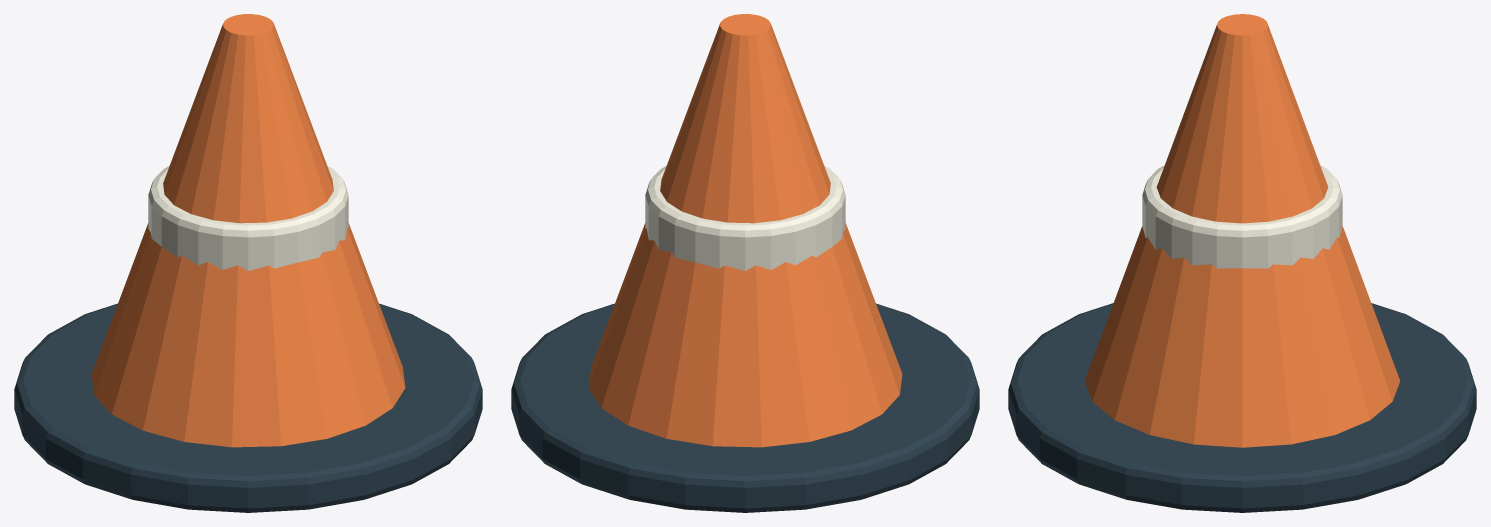
Rendered from hat_cone.glb.
The picture shows the model from 3 angles, left to right: view 1: azimuth 30°, elevation 25°; view 2: azimuth 150°, elevation 25°; view 3: azimuth 270°, elevation 25°; orthographic projection.
Parts seen in each view (by area): view 1: Cone.001, Traffic crown base, Reflective hat stripe; view 2: Cone.001, Traffic crown base, Reflective hat stripe; view 3: Cone.001, Traffic crown base, Reflective hat stripe.
Part boxes in pixels (x1,y1,x2,y2): Cone.001: (91, 14, 405, 447); Traffic crown base: (14, 303, 482, 512); Reflective hat stripe: (148, 166, 348, 270); Cone.001: (588, 14, 902, 447); Traffic crown base: (511, 303, 979, 512); Reflective hat stripe: (645, 166, 845, 270); Cone.001: (1085, 14, 1399, 447); Traffic crown base: (1008, 303, 1476, 512); Reflective hat stripe: (1142, 165, 1342, 268).
Bounding box in the file's own units: 0.64 × 0.5925 × 0.64.
